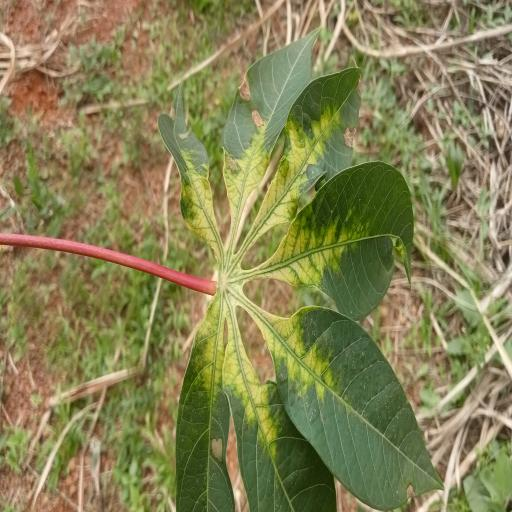Cassava_Mosaic: (156, 27, 447, 512)
